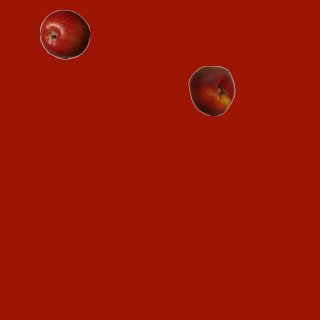Apple Braeburn: (39, 9, 89, 59)
Nectarine Flat: (186, 65, 236, 115)
